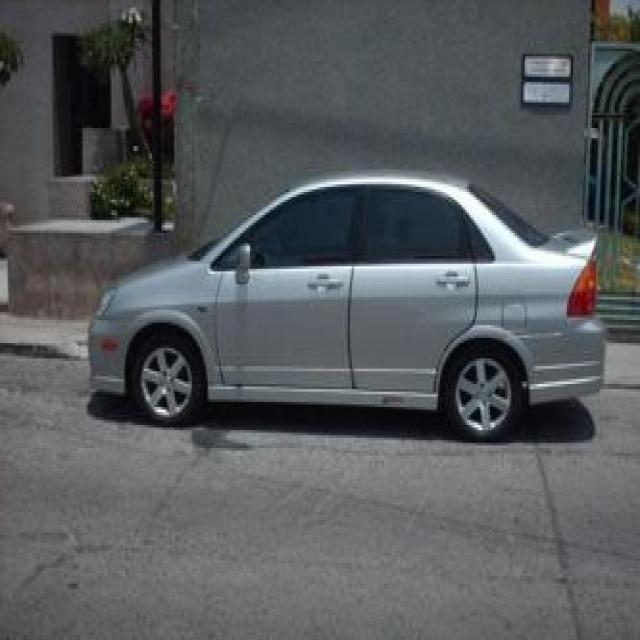Car: (79, 151, 638, 499)
